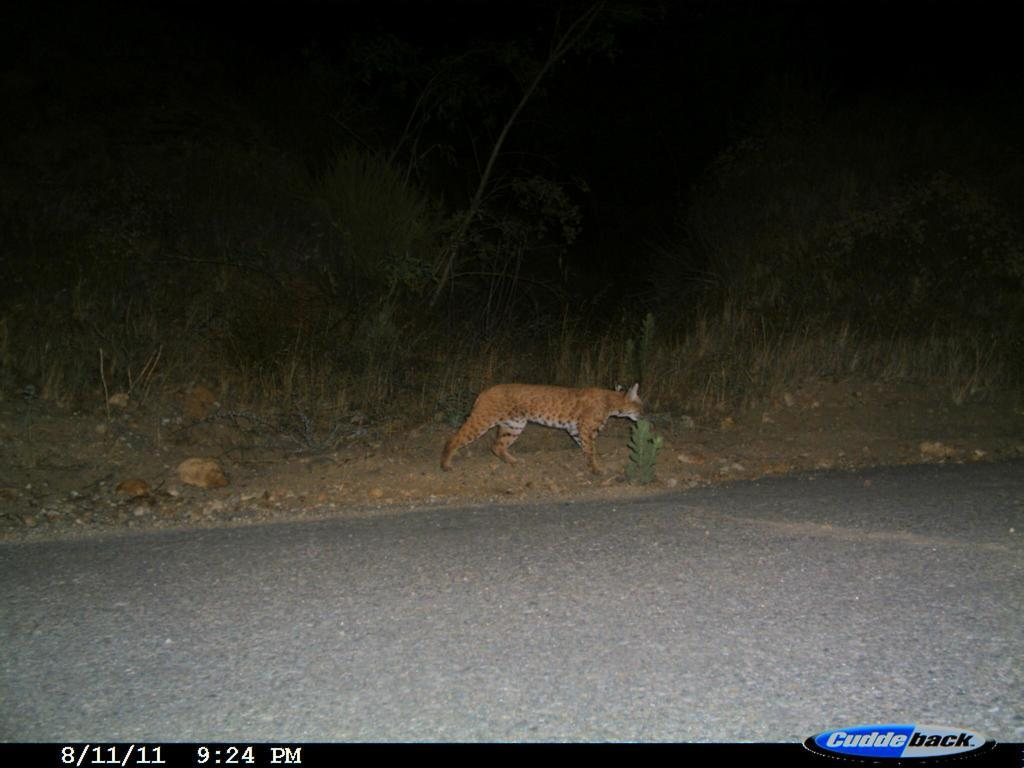bobcat: (436, 372, 656, 496)
